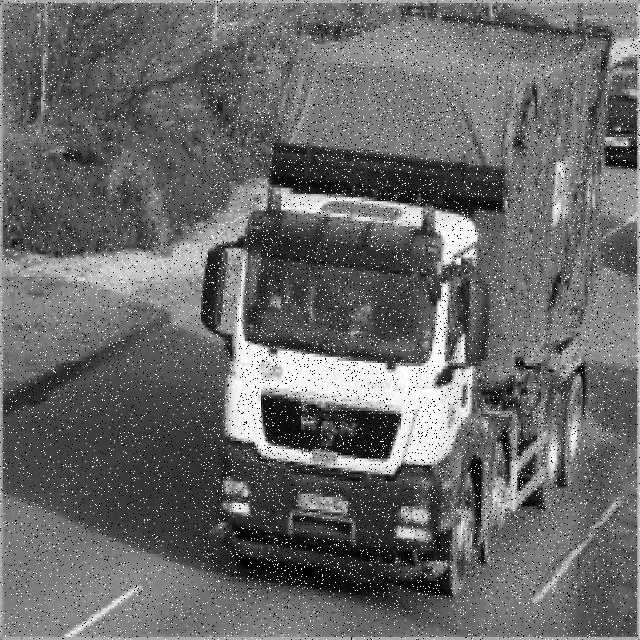Truck- Multi-Axle: (201, 15, 612, 599)
